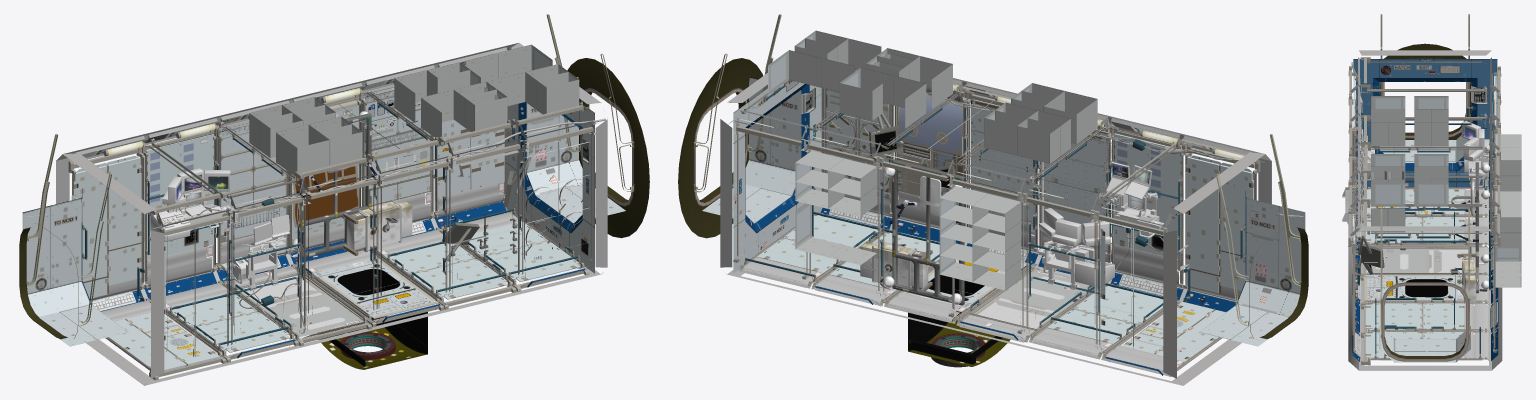
File: iss-lab.glb
3 renders of one model, left to right at view 1: azimuth 30°, elevation 25°; view 2: azimuth 150°, elevation 25°; view 3: azimuth 270°, elevation 25°, orthographic. The views are drawn at different scales.
Visible parts, largest first — view 1: US_Lab_Int_Racks, US_Lab_Int_Racks_003, US_Lab_Int_FWD_Bulkhead, US_Lab_Int_MainFrame, US_Lab_Int_AFT_Bulkhead, US_Lab_Int_MSS_AV, US_Lab_Int_Metals_AFT, EXPRESS_Racks_ATLAS_2_Base, US_Lab_Int_Metals_FWD, US_Lab_Int_MainFrame_Lower_Port, CEVIS.Bike, US_Lab_Int_MainFrame_Upper_Port (+26 smaller); view 2: US_Lab_Int_Racks, US_Lab_Int_FWD_Bulkhead, US_Lab_Int_Racks_003, US_Lab_Int_MainFrame, US_Lab_Int_AFT_Bulkhead, US_Lab_Int_MSS_AV, US_Lab_Int_Metals_AFT, Cevis.Mount, EXPRESS_Racks_ATLAS_2_Base, EXPRESS_Racks_ATLAS_7_Base, US_Lab_Int_MainFrame_Lower_Stbd, US_Lab_Int_Metals_FWD (+31 smaller); view 3: US_Lab_Int_Racks, US_Lab_Int_AFT_Bulkhead, US_Lab_Int_MainFrame, US_Lab_Int_Racks_003, US_Lab_Int_FWD_Bulkhead, US_Lab_Int_Metals_FWD, EXPRESS_Racks_ATLAS_2_Base, US_Lab_Int_MSS_AV, US_Lab_Int_Metals_AFT, Cevis.Mount, EXPRESS_Racks_ATLAS_7_Base, EXPRESS_Racks_ATLAS_1_Base (+27 smaller).
Part boxes in pixels (x1=…): US_Lab_Int_Racks: x1=68, y1=81, x2=596, y2=380; US_Lab_Int_Racks_003: x1=288, y1=92, x2=451, y2=369; US_Lab_Int_FWD_Bulkhead: x1=506, y1=49, x2=649, y2=273; US_Lab_Int_MainFrame: x1=56, y1=43, x2=607, y2=385; US_Lab_Int_AFT_Bulkhead: x1=19, y1=188, x2=128, y2=346; US_Lab_Int_MSS_AV: x1=150, y1=168, x2=289, y2=290; US_Lab_Int_Metals_AFT: x1=26, y1=127, x2=377, y2=348; EXPRESS_Racks_ATLAS_2_Base: x1=466, y1=44, x2=578, y2=105; US_Lab_Int_Metals_FWD: x1=363, y1=14, x2=634, y2=295; US_Lab_Int_MainFrame_Lower_Port: x1=91, y1=201, x2=506, y2=311; CEVIS.Bike: x1=343, y1=200, x2=412, y2=255; US_Lab_Int_MainFrame_Upper_Port: x1=73, y1=47, x2=507, y2=157; US_Lab_Int_Racks: x1=733, y1=70, x2=1260, y2=376; US_Lab_Int_FWD_Bulkhead: x1=678, y1=58, x2=821, y2=273; US_Lab_Int_Racks_003: x1=879, y1=85, x2=1038, y2=367; US_Lab_Int_MainFrame: x1=720, y1=73, x2=1271, y2=385; US_Lab_Int_AFT_Bulkhead: x1=1177, y1=191, x2=1308, y2=346; US_Lab_Int_MSS_AV: x1=1037, y1=162, x2=1163, y2=289; US_Lab_Int_Metals_AFT: x1=948, y1=134, x2=1301, y2=339; Cevis.Mount: x1=883, y1=160, x2=964, y2=305; EXPRESS_Racks_ATLAS_2_Base: x1=768, y1=30, x2=881, y2=94; EXPRESS_Racks_ATLAS_7_Base: x1=795, y1=162, x2=876, y2=265; US_Lab_Int_MainFrame_Lower_Stbd: x1=820, y1=208, x2=1236, y2=311; US_Lab_Int_Metals_FWD: x1=693, y1=14, x2=968, y2=280; US_Lab_Int_Racks: x1=1342, y1=57, x2=1501, y2=365; US_Lab_Int_AFT_Bulkhead: x1=1353, y1=43, x2=1497, y2=189; US_Lab_Int_MainFrame: x1=1348, y1=50, x2=1502, y2=370; US_Lab_Int_Racks_003: x1=1348, y1=144, x2=1500, y2=307; US_Lab_Int_FWD_Bulkhead: x1=1363, y1=262, x2=1470, y2=362; US_Lab_Int_Metals_FWD: x1=1354, y1=178, x2=1497, y2=358; EXPRESS_Racks_ATLAS_2_Base: x1=1371, y1=182, x2=1448, y2=206; US_Lab_Int_MSS_AV: x1=1357, y1=121, x2=1493, y2=189; US_Lab_Int_Metals_AFT: x1=1355, y1=14, x2=1496, y2=269; Cevis.Mount: x1=1451, y1=162, x2=1489, y2=293; EXPRESS_Racks_ATLAS_7_Base: x1=1495, y1=248, x2=1521, y2=287; EXPRESS_Racks_ATLAS_1_Base: x1=1371, y1=154, x2=1448, y2=166.
Bounding box in the file's own units: 83.83 × 38.02 × 28.16.
13 materials, 12 textured.
